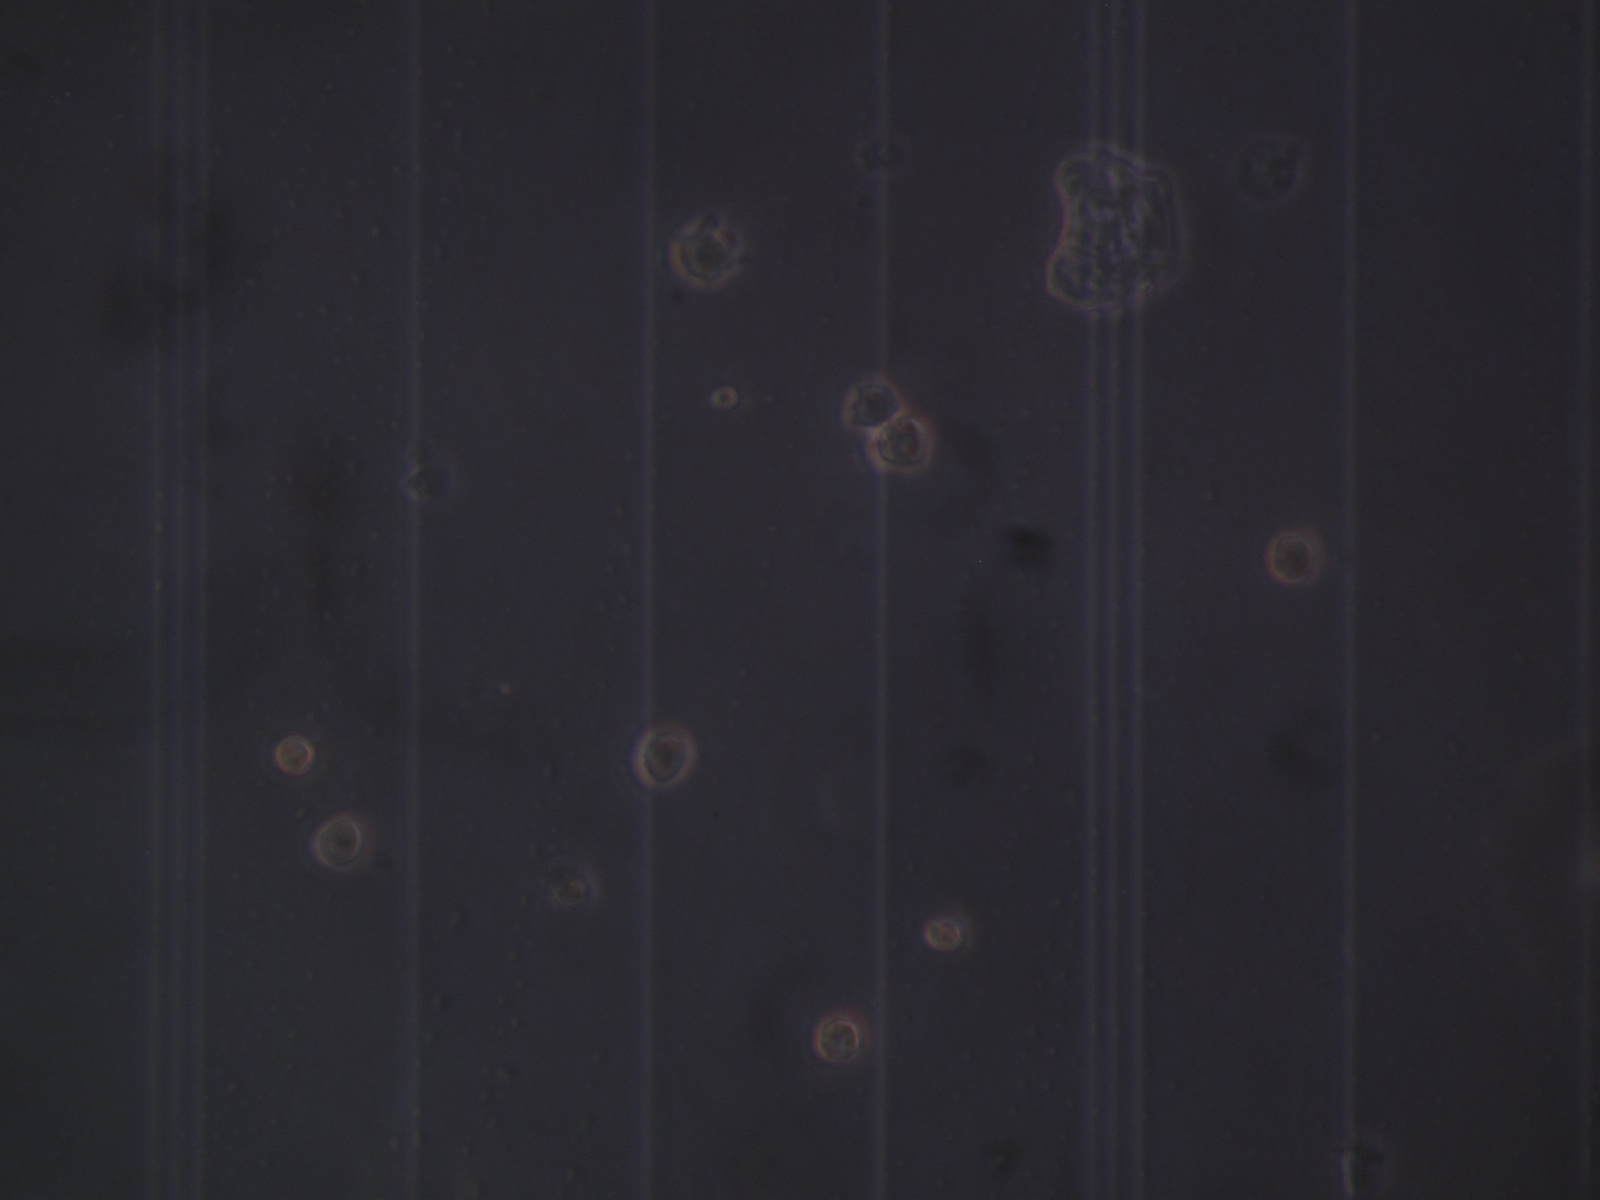hemo: (669, 224, 740, 287), (632, 724, 697, 792), (866, 418, 936, 476), (845, 373, 905, 437), (314, 811, 368, 874), (1269, 532, 1317, 586), (813, 1016, 866, 1063), (920, 910, 975, 952), (273, 734, 314, 775)
